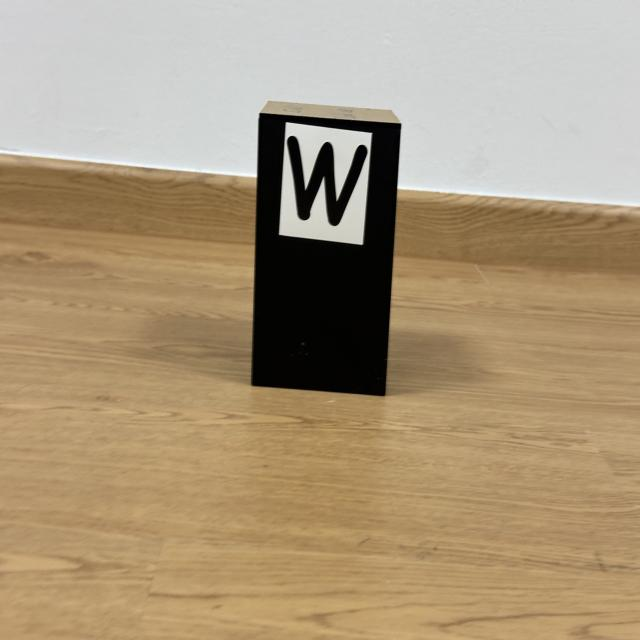W: (288, 137, 368, 225)
